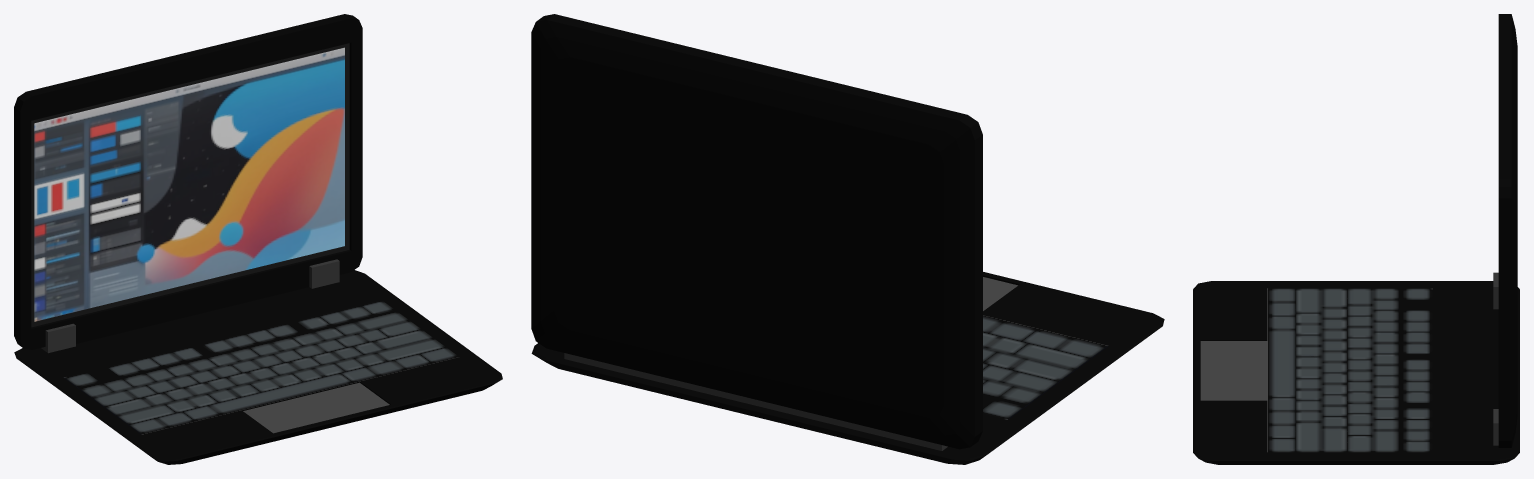
File: Int_TechLaptop01.fbx
3 renders of one model, left to right at view 1: azimuth 30°, elevation 25°; view 2: azimuth 150°, elevation 25°; view 3: azimuth 270°, elevation 25°, orthographic. The views are drawn at different scales.
Parts seen in each view (by area): view 1: Int_TechLaptop01; view 2: Int_TechLaptop01; view 3: Int_TechLaptop01.
Part boxes in pixels (x1,y1,x2,y2): Int_TechLaptop01: [14, 14, 502, 464]; Int_TechLaptop01: [531, 14, 1164, 464]; Int_TechLaptop01: [1193, 14, 1519, 464].
Size of what is drawn, in the model's own units: 57.78 by 44.37 by 43.04.
